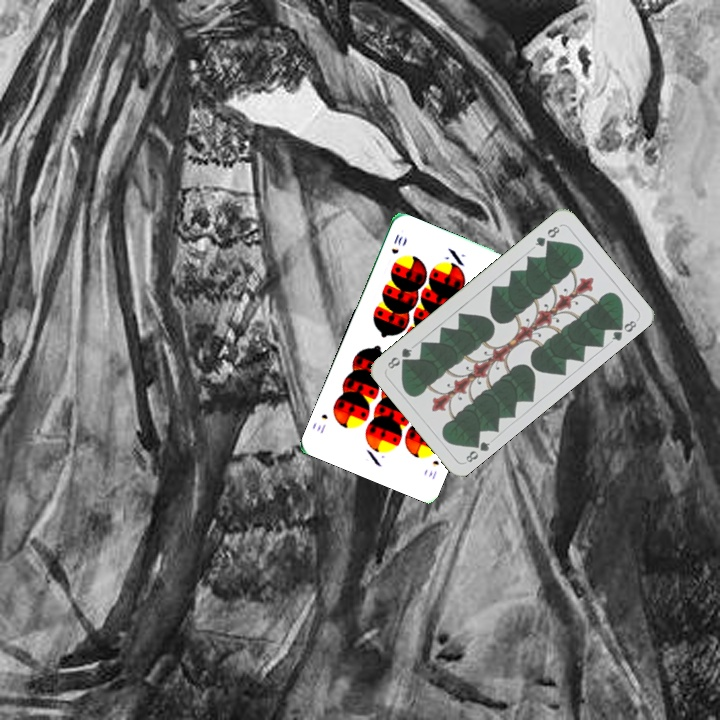G8: (461, 435, 493, 465), (531, 222, 563, 250)
S10: (387, 230, 405, 257), (424, 456, 442, 482)
